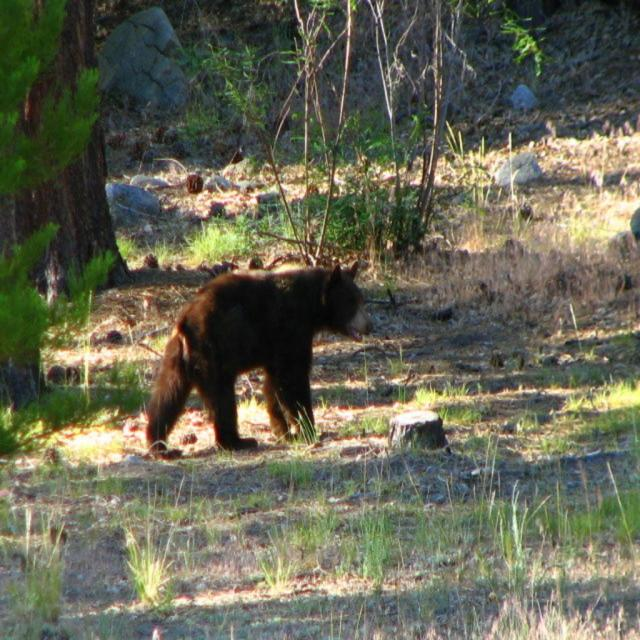Buffalo: (142, 259, 375, 461)
